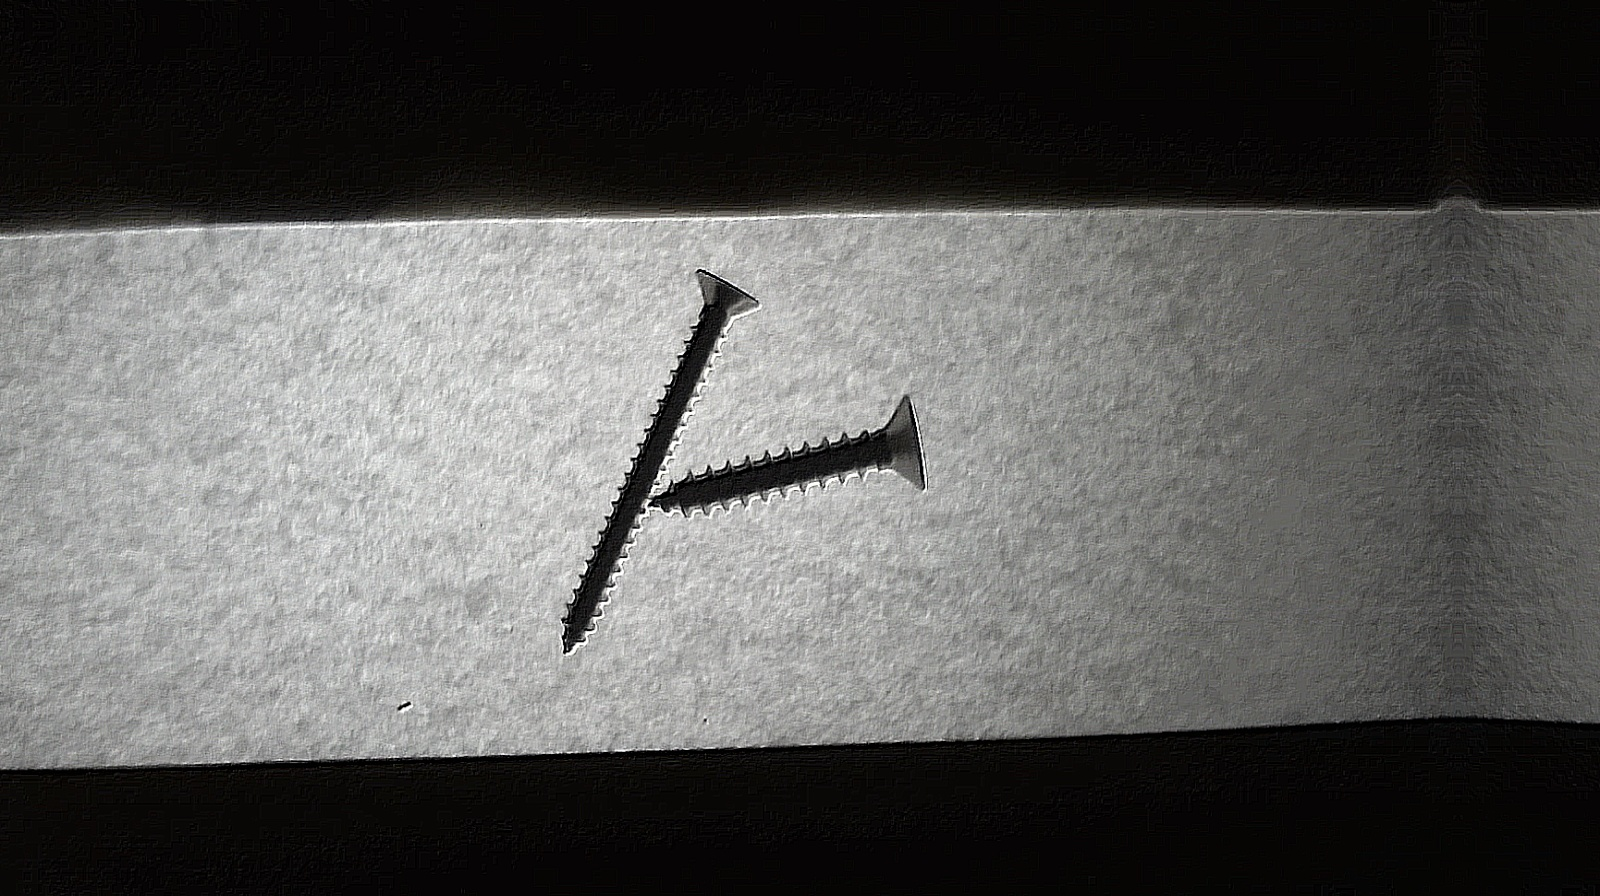S001: (634, 392, 942, 515)
S002: (557, 262, 769, 659)
